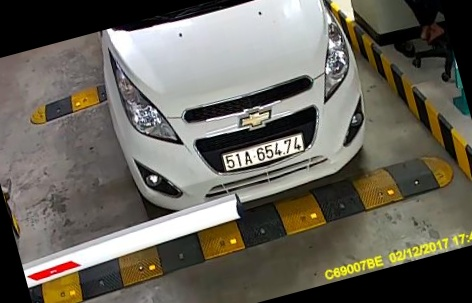plate: (221, 134, 312, 176)
